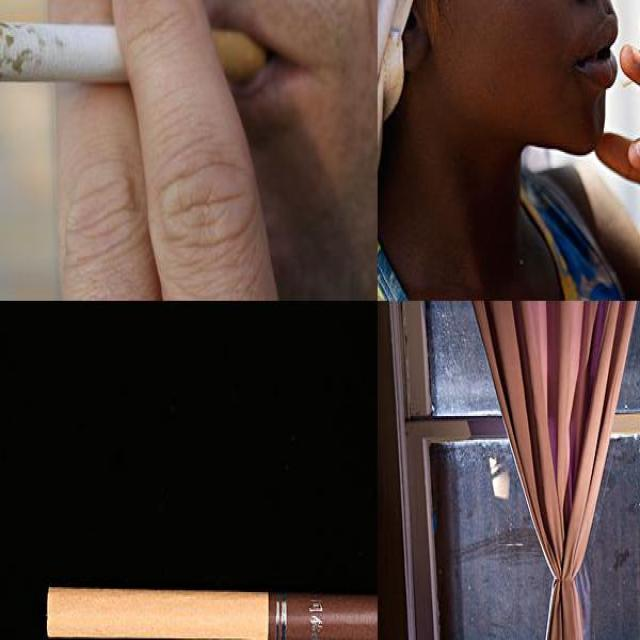smoking: (0, 17, 267, 90), (44, 586, 376, 638), (602, 12, 640, 94)
